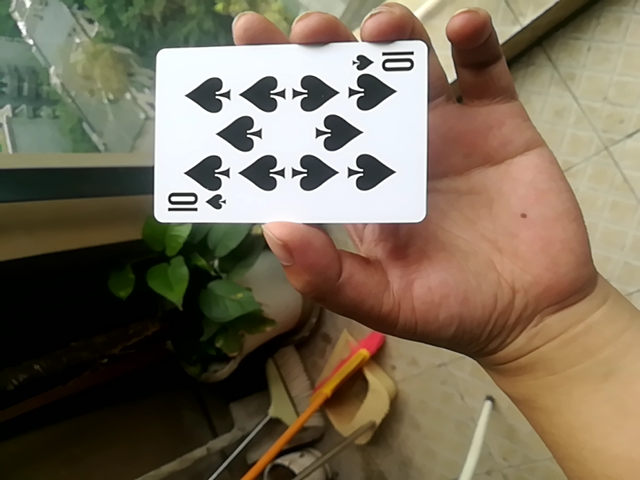ht 10: (149, 36, 429, 222)
